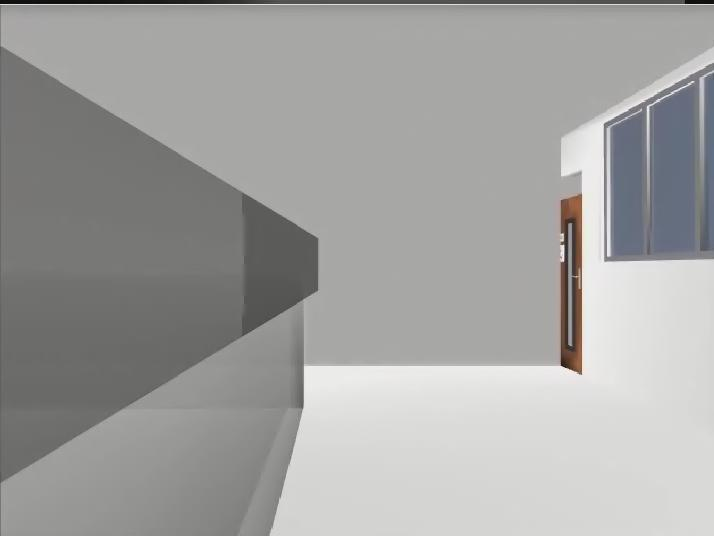door: (560, 195, 582, 376)
